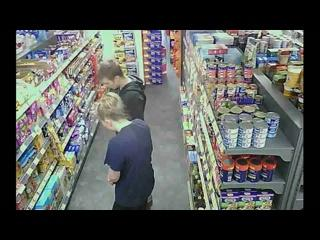Normal: (96, 92, 156, 209), (96, 59, 146, 120)
